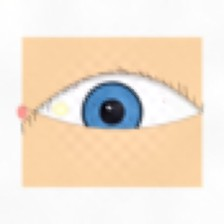pinguecula_lesion: (44, 96, 77, 122)
